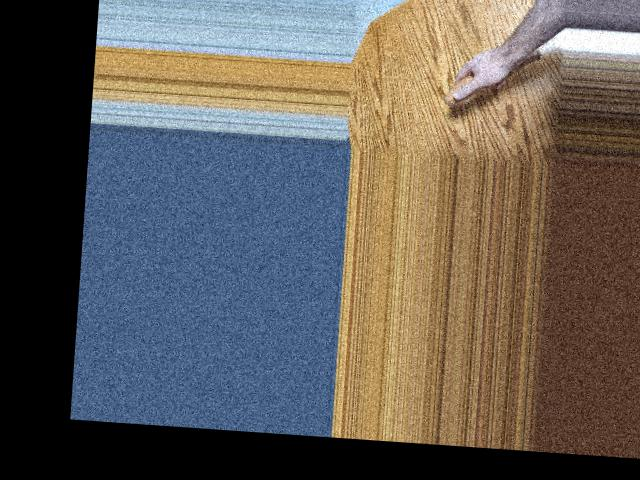sweet_potato: (443, 41, 544, 111)
